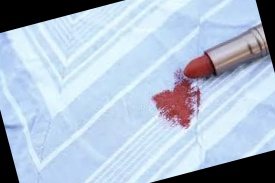lipstick: (147, 60, 212, 136)
